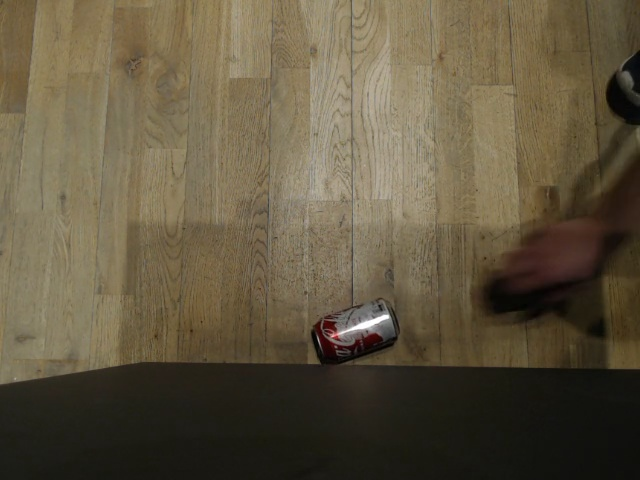cola: (310, 294, 402, 365)
